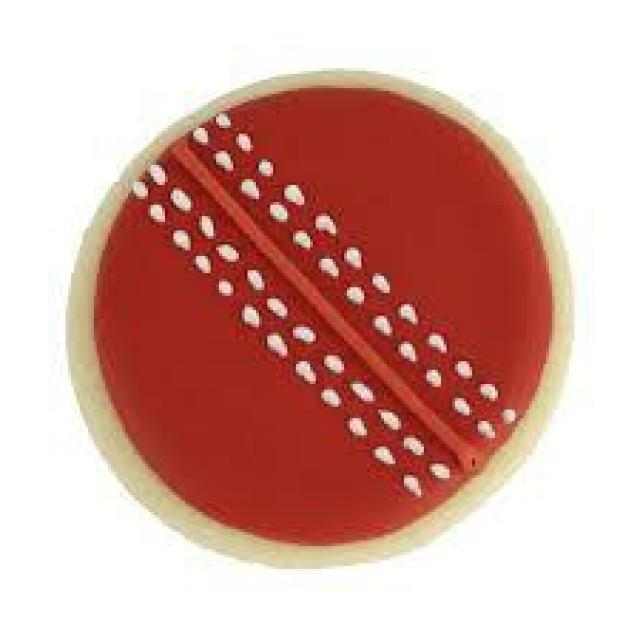ball: (65, 68, 569, 569)
